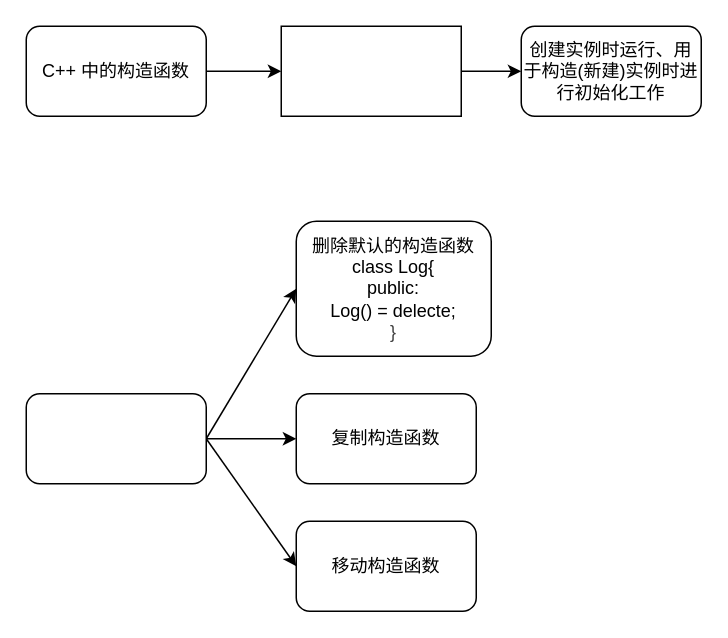
This 728x638 diagram has some shape labels left out. The shapes that lost their labels are listed below. From the top down, each one's centre as x and y in pixels, then its label:
At [370,70]: "一种特殊类型的方法".
At [115,438]: "默认构造函数".
